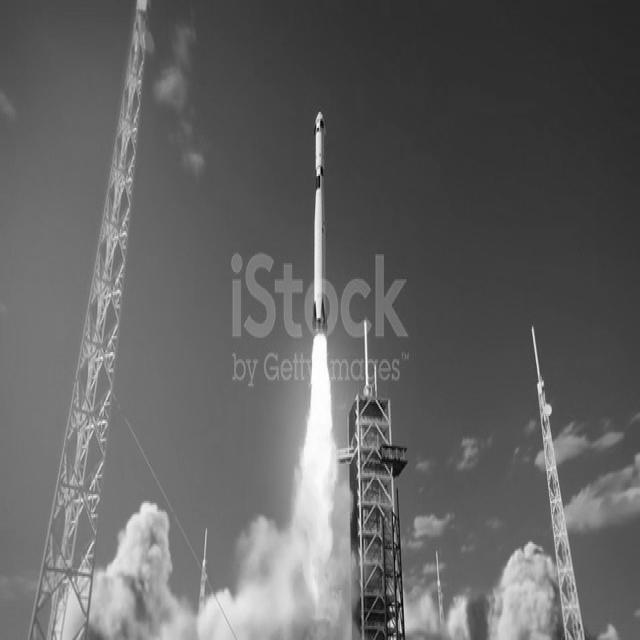Missile: (312, 100, 330, 340)
